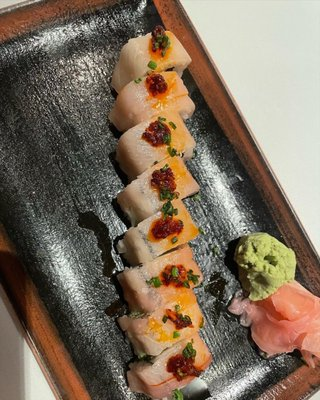burger: (0, 1, 320, 400)
